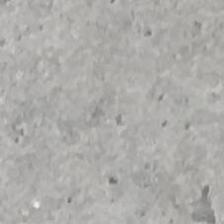Non_Crack: (29, 48, 224, 193)
